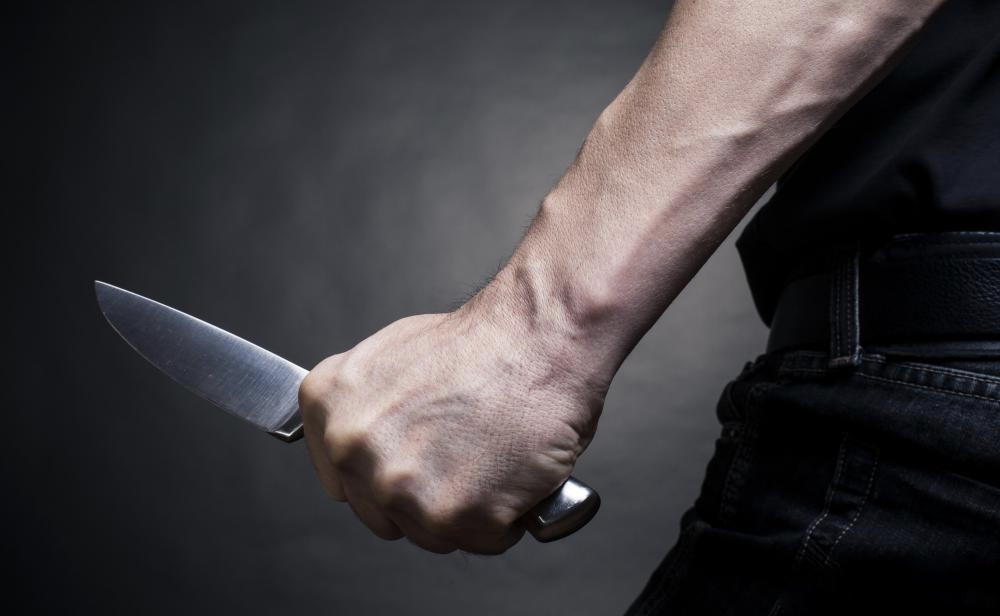knife: (78, 264, 442, 533)
